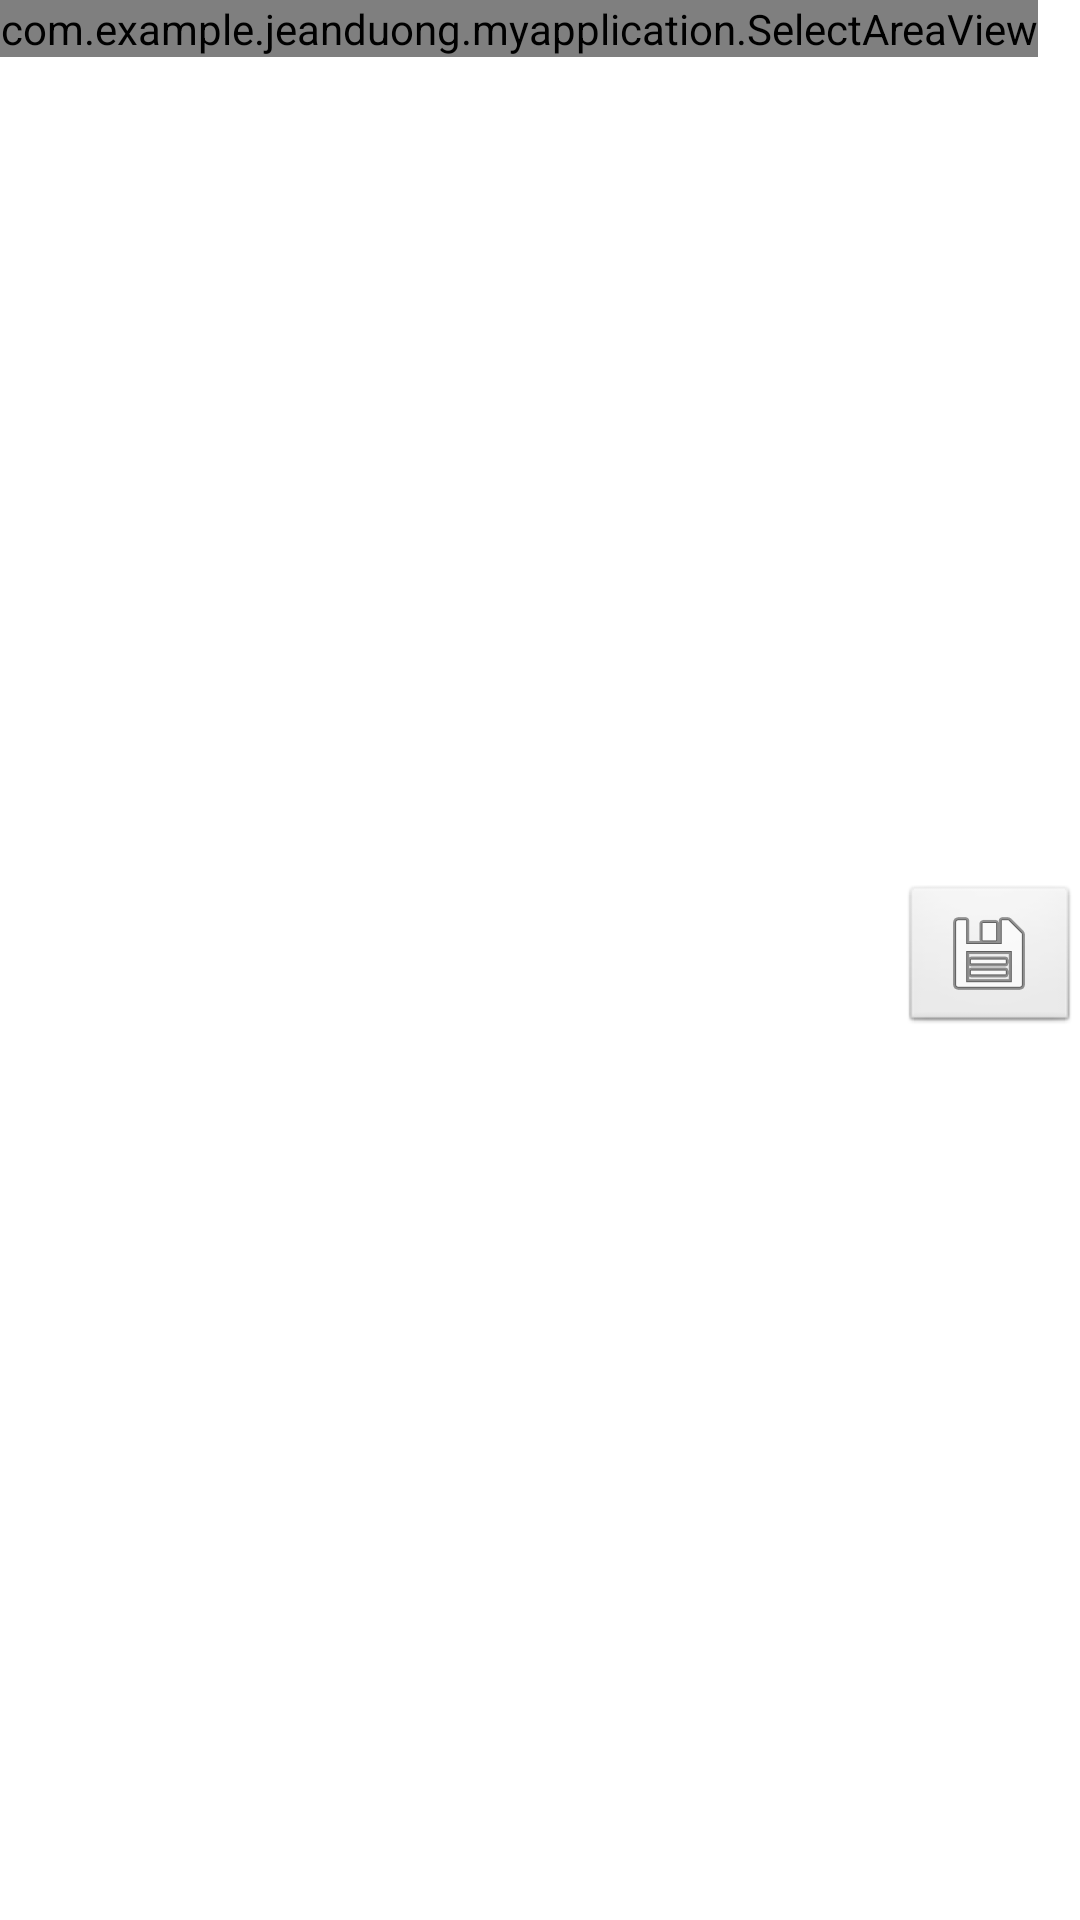

Locate icon controls on the screen. Image size 1080*1920, boxes as bbox=[x1, y1, x2, y2].
save: bbox=[908, 886, 1071, 1023]
